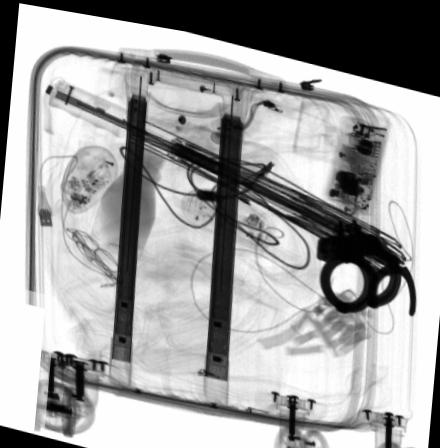HandCuffs: (315, 207, 417, 303)
